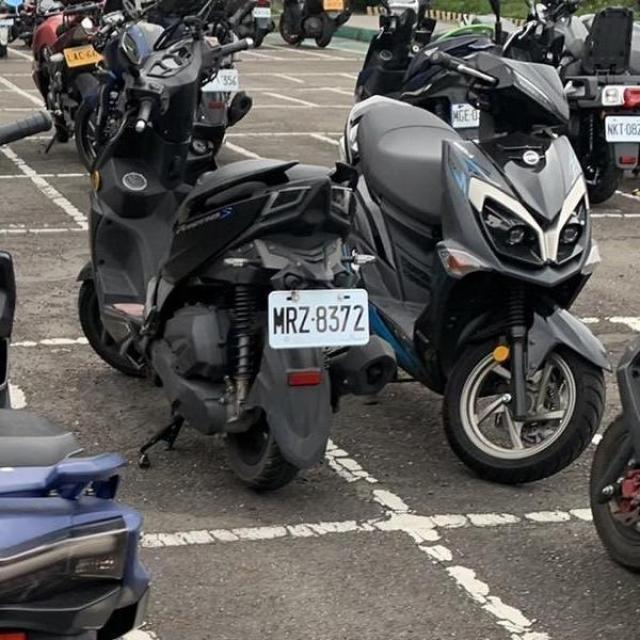W: (265, 286, 374, 350)
